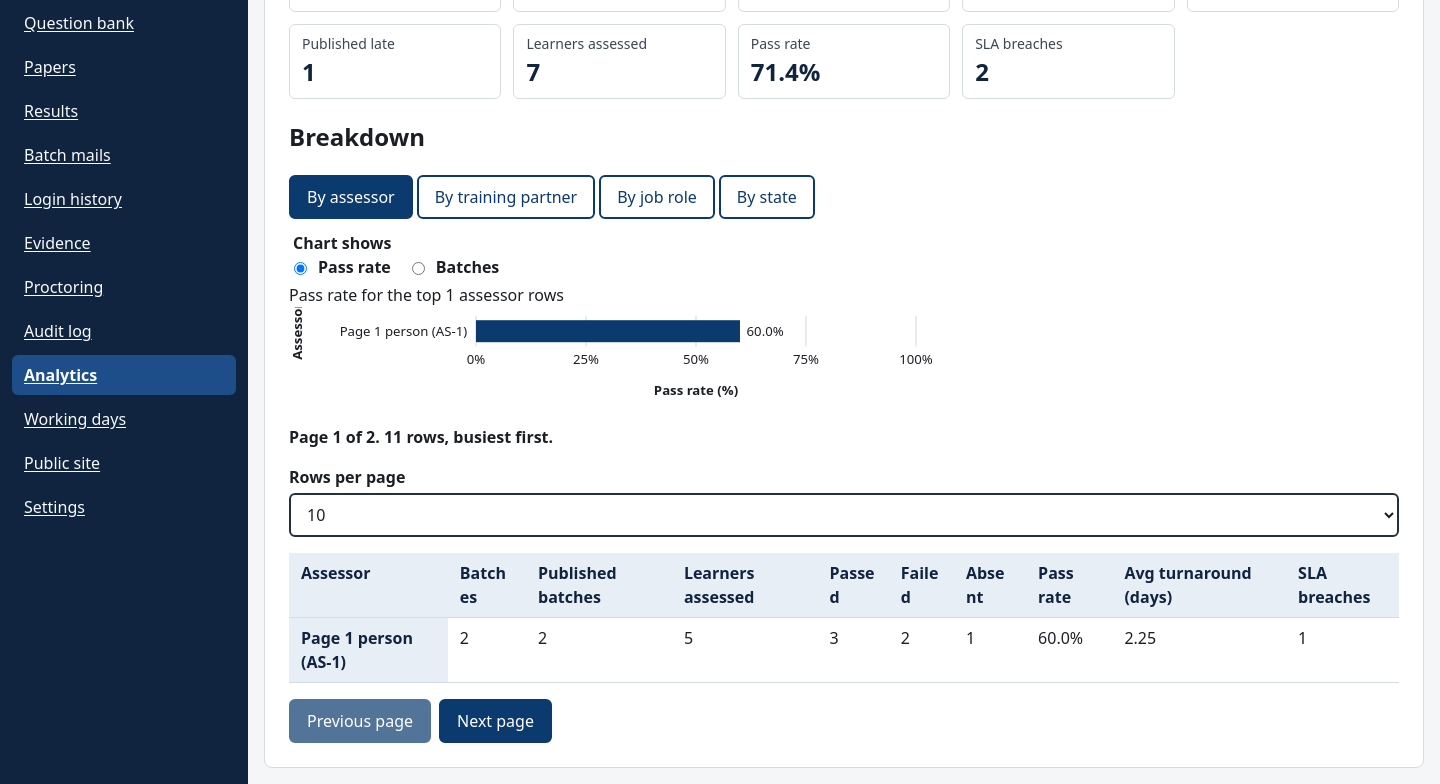
Test case: pages the table and keeps the chart on the top 10
(page scrolled)
Expected: the column heading "Page 1 person (AS-1)" is shown, [289, 618, 448, 683]
Expected: the text "Page 1 of 2. 11 rows, busiest first." is shown, [289, 426, 553, 448]
Click the button "Next page" at (496, 721), box [439, 699, 552, 743]
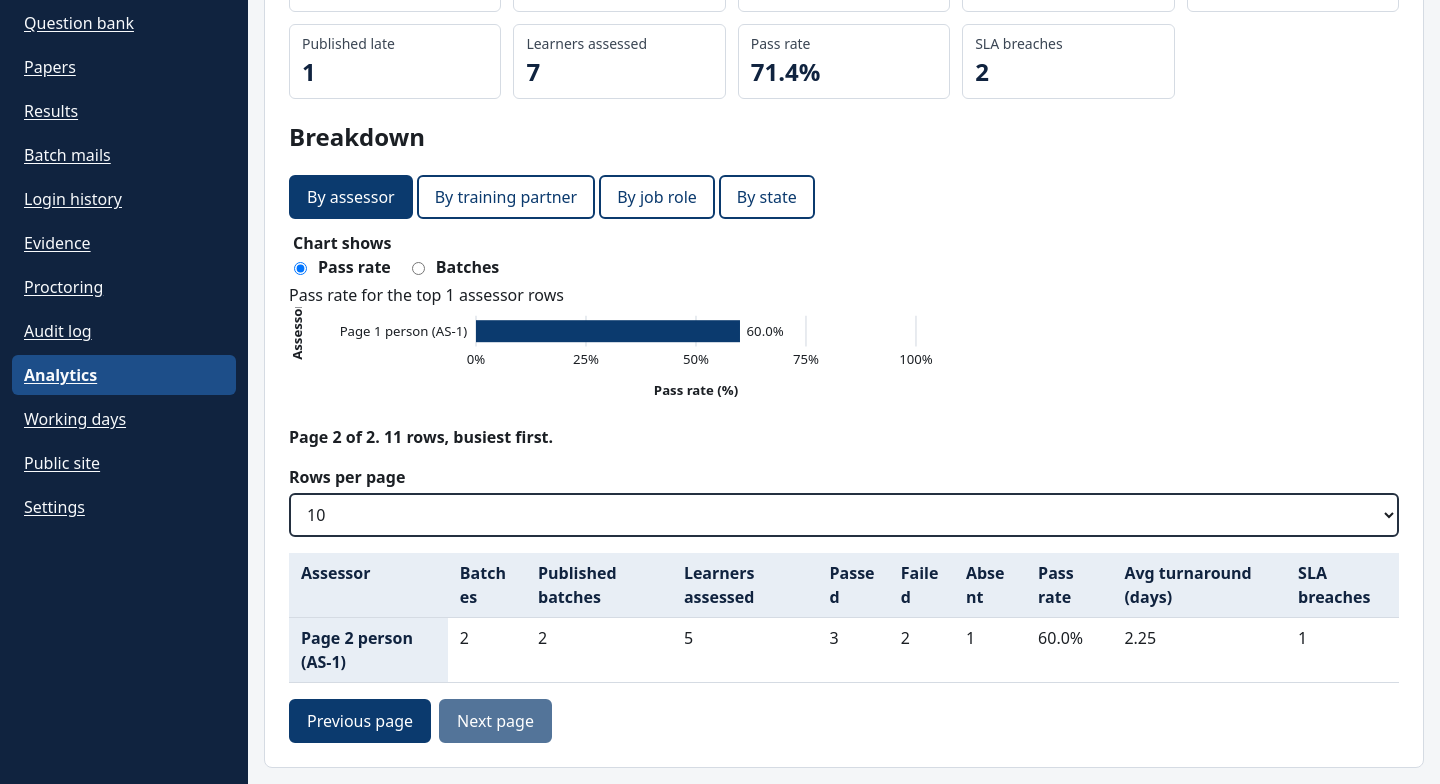
Expected: the column heading "Page 2 person (AS-1)" is shown, [289, 618, 448, 683]
Expected: the button "Next page" is disabled, [439, 699, 552, 743]
